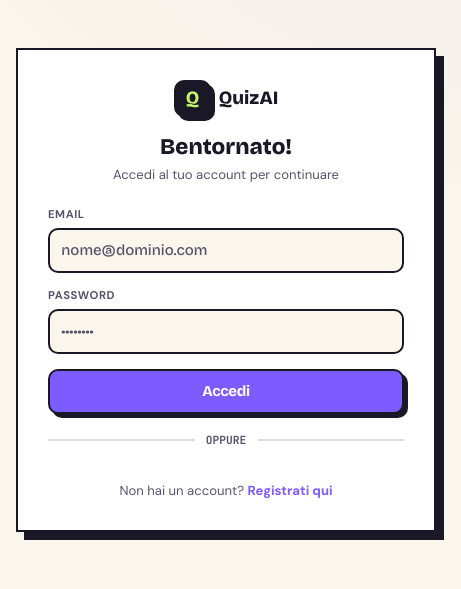
LoginPage › login con credenziali sbagliate mostra il messaggio d'errore
This screenshot has width=461, height=589.
Type "wrong@test.com" into the field labelled "Email" at (226, 250), box [48,228,404,273]
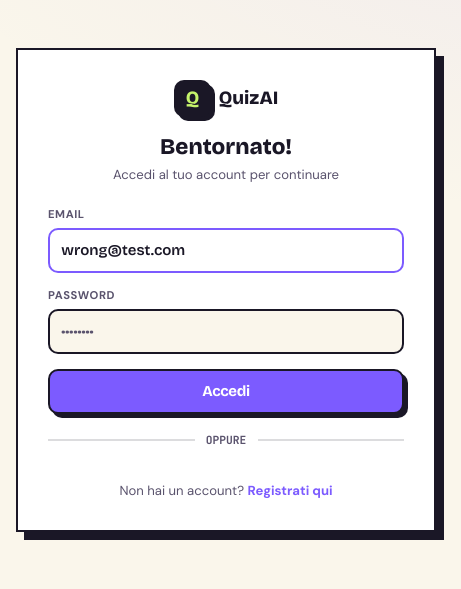
Type "xxx" into the password field labelled "Password" at (226, 331), box [48,309,404,354]
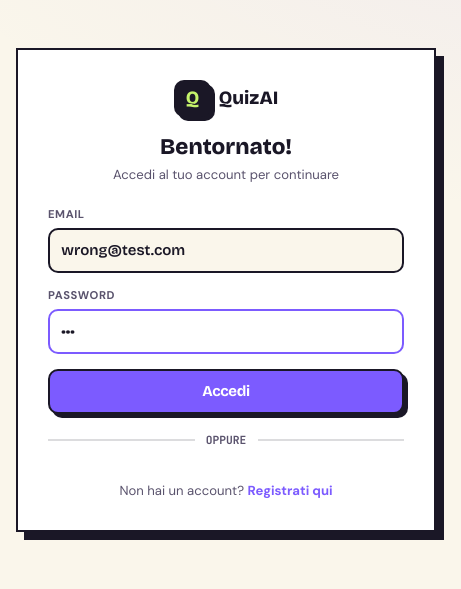
Click the button "Accedi" at (226, 392), box [48,369,404,414]
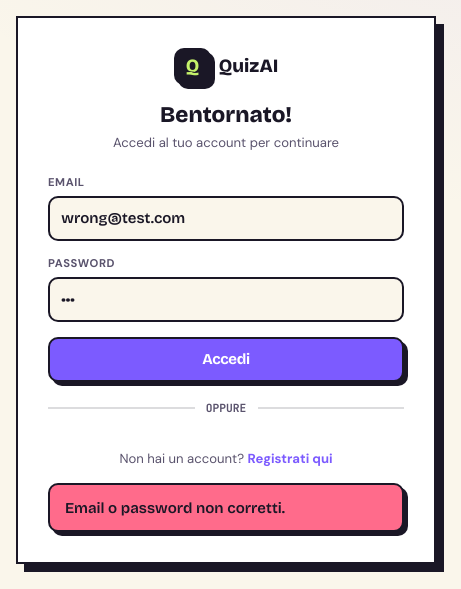
Check: the message shows "Email o password non corretti", box [65,499,285,517]
